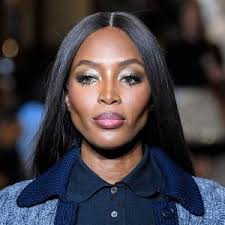person: (46, 9, 171, 156)
